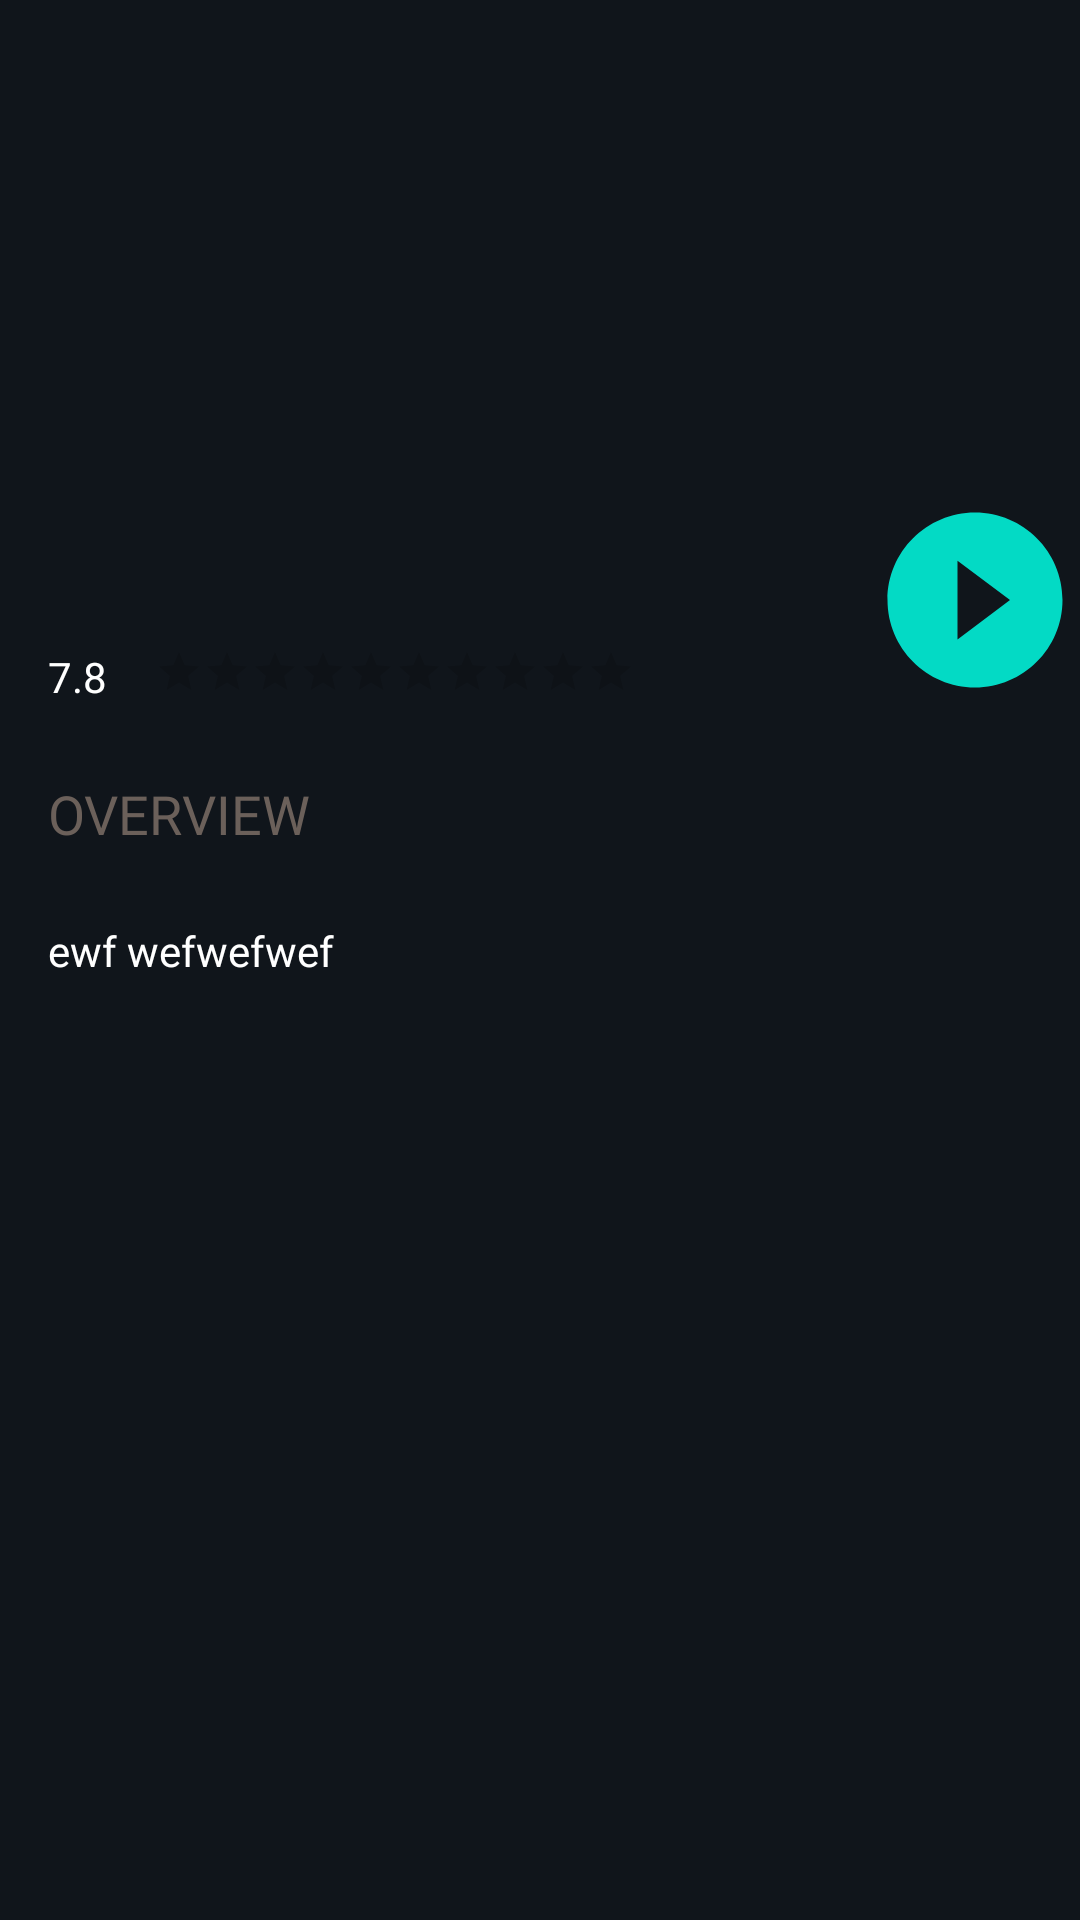

Icons on this 1080w x 1920h Android screen, each with its box as {"left": x1, "top": y1, "right": x2, "bottom": y2}:
play circle: {"left": 887, "top": 512, "right": 1063, "bottom": 688}
